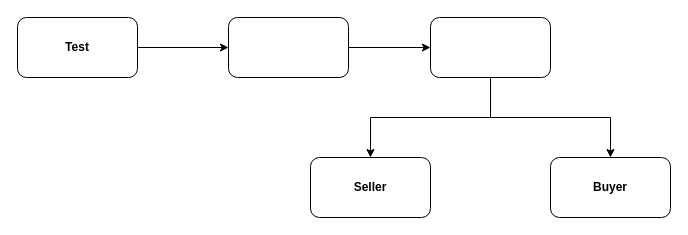
Some shapes in this 688 by 235 pixel diagram are drawn without their labels. The box of each missing label's shape, as (x1, y1, x2, y2) in pixels:
ChatRoom: (228, 16, 348, 78)
IUser: (430, 16, 550, 78)
